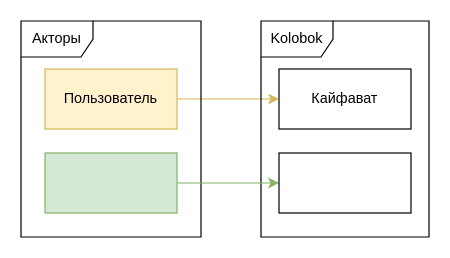
This 450x258 diagram has some shape labels left out. Each missing label, with the centre of its shape:
"Палучат дэнги" belongs at (344,182).
"Разработчик" belongs at (110,182).
